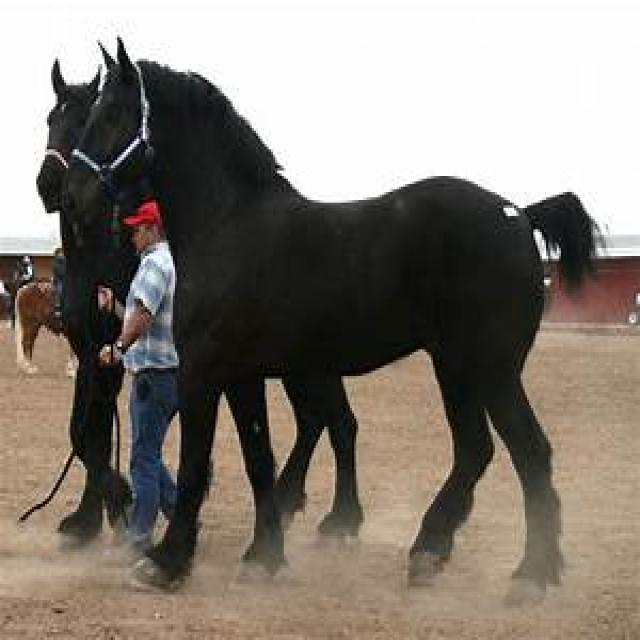horse: (60, 40, 561, 608)
